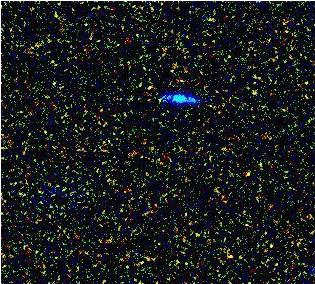star: (231, 158, 261, 188)
